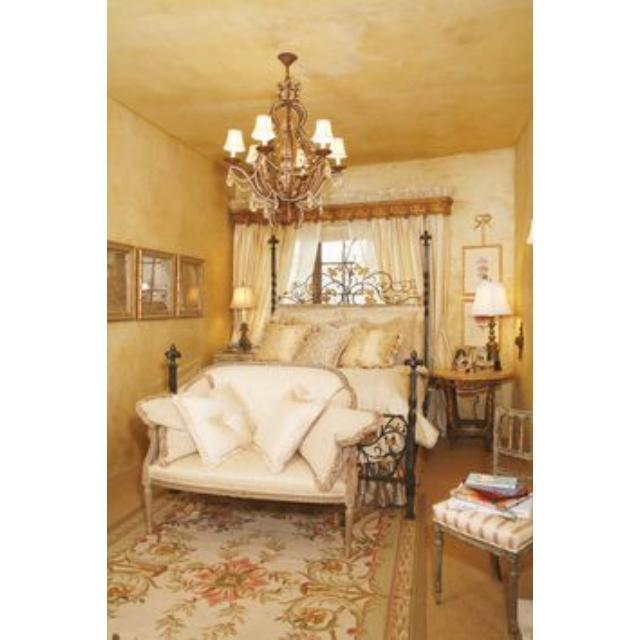bed: (256, 262, 439, 506)
chair: (137, 364, 381, 556), (433, 485, 534, 638), (493, 406, 533, 473)
curtain: (276, 216, 435, 300), (233, 224, 268, 341), (426, 215, 452, 368)
lamp: (472, 276, 513, 371), (231, 286, 253, 352)
light: (225, 52, 347, 226)
rug: (108, 492, 394, 640), (357, 492, 429, 639)
side-table: (431, 371, 515, 449)
wall-art: (107, 242, 205, 319), (465, 245, 502, 294)
